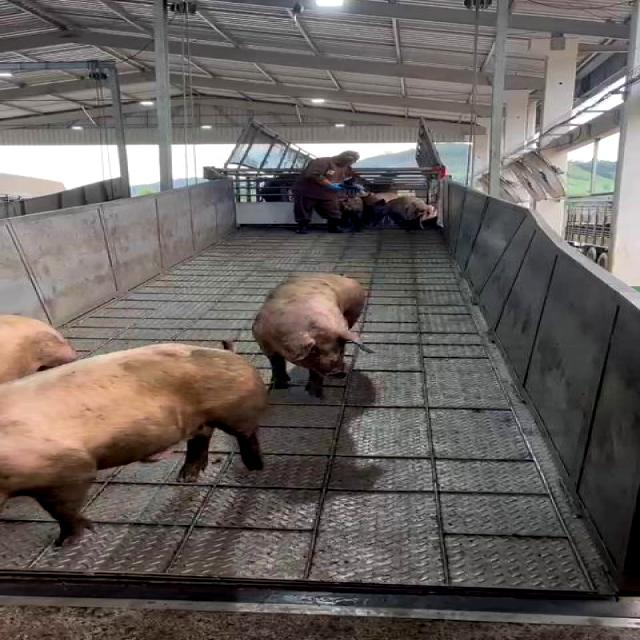pig: (1, 344, 267, 543), (253, 275, 371, 394)
